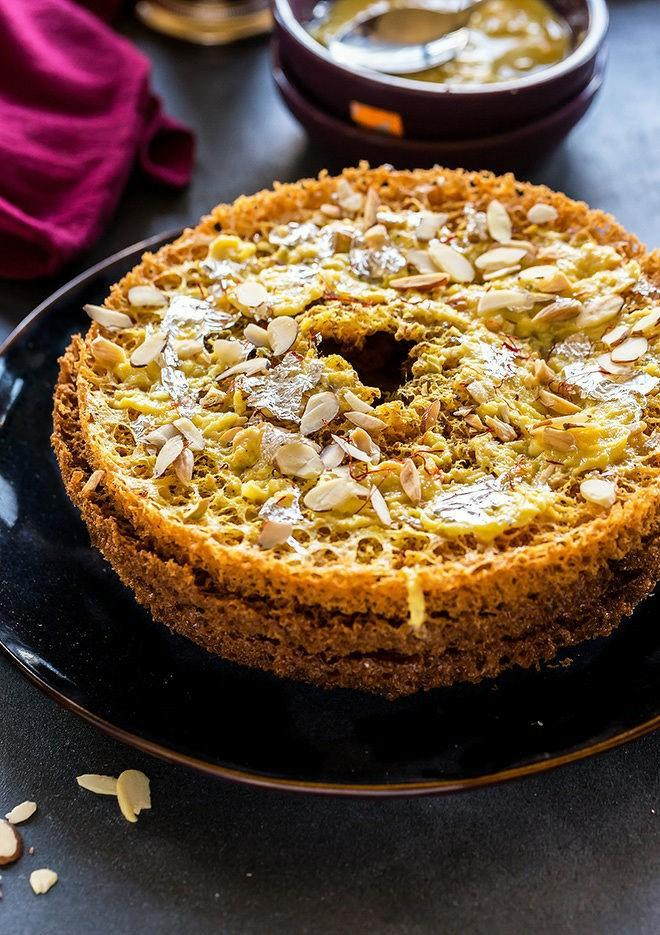Ghevar: (50, 158, 660, 690)
